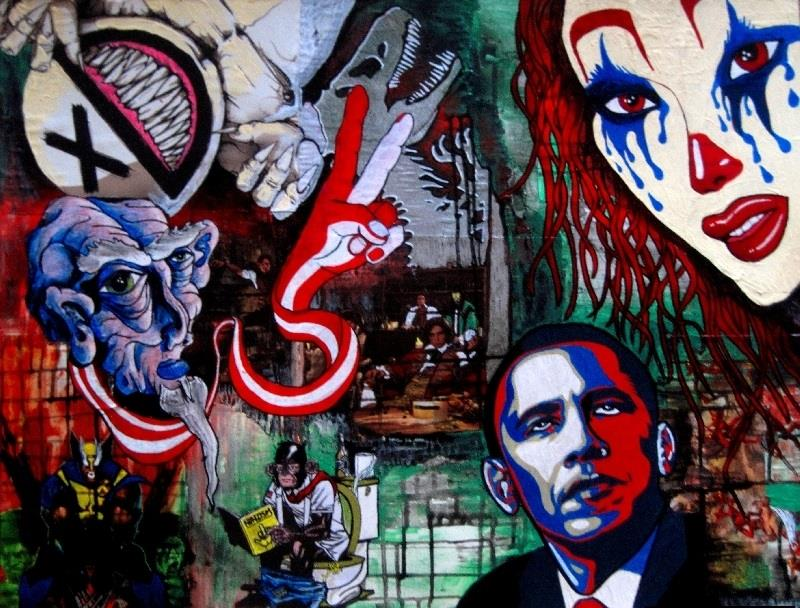Obama: (465, 321, 682, 549)
